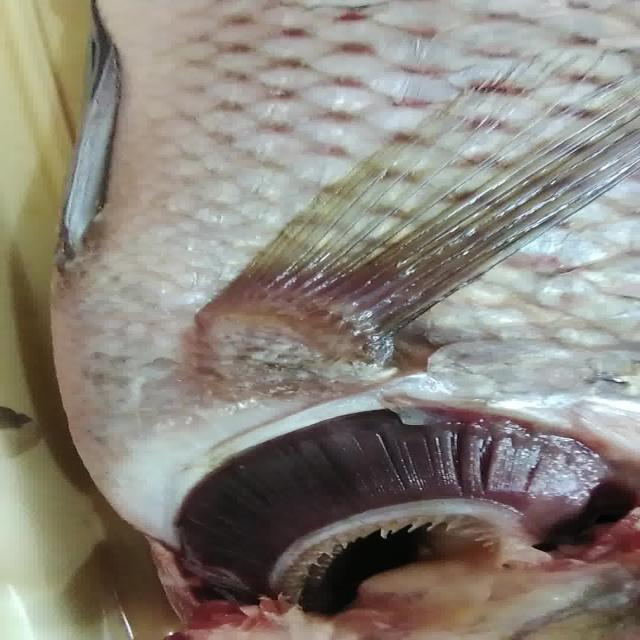Non-Fresh: (140, 414, 622, 606)
